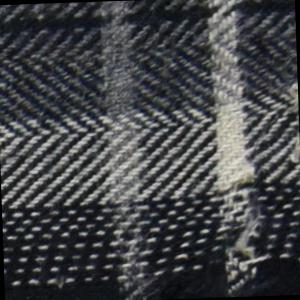Damage: (197, 68, 300, 299)
